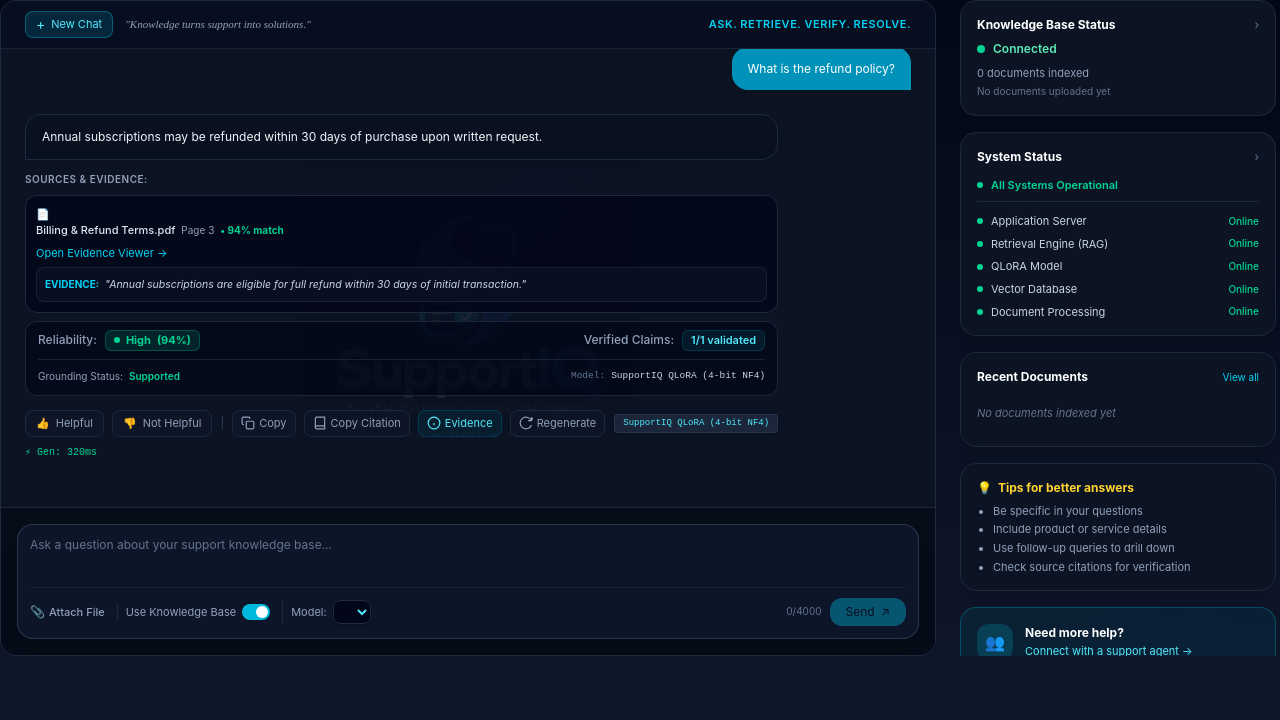
it: Chat Answer Feedback & Action Controls › displays graceful error message if feedback submission fails
This screenshot has width=1280, height=720.
(page scrolled)
Expected: the text "Annual subscriptions may be refunded" is shown, [42, 129, 542, 144]
Click the button with aria-label "Mark answer as not helpful" at (162, 423), box [112, 410, 212, 436]
(page scrolled)
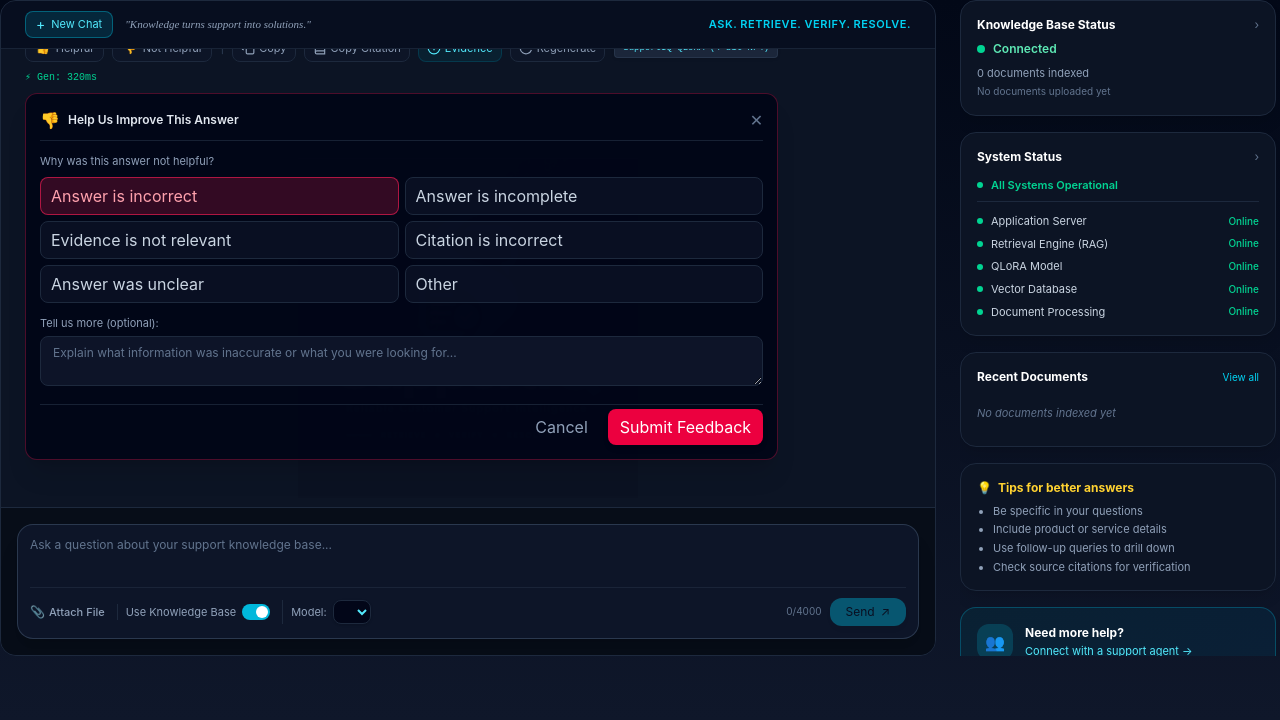
Click the button "Submit Feedback" at (685, 426), box [608, 408, 763, 444]
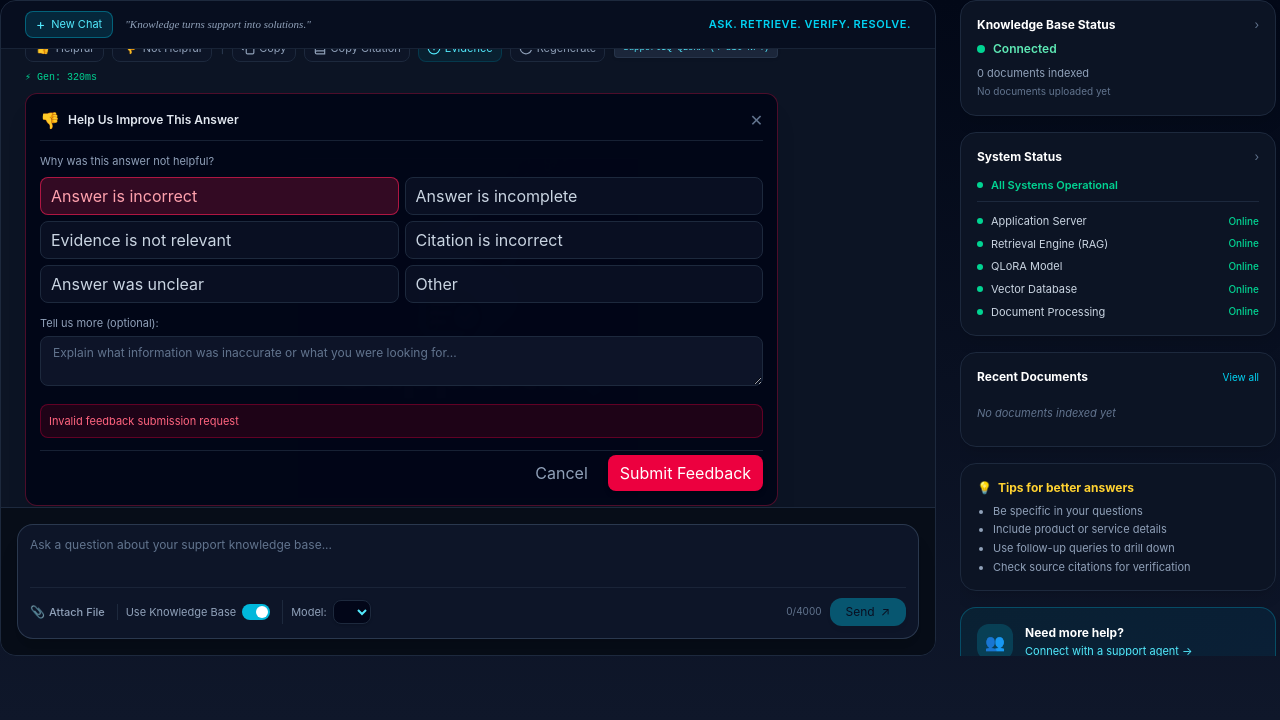
Now the text "Invalid feedback submission request" is shown, box [40, 404, 763, 438]
